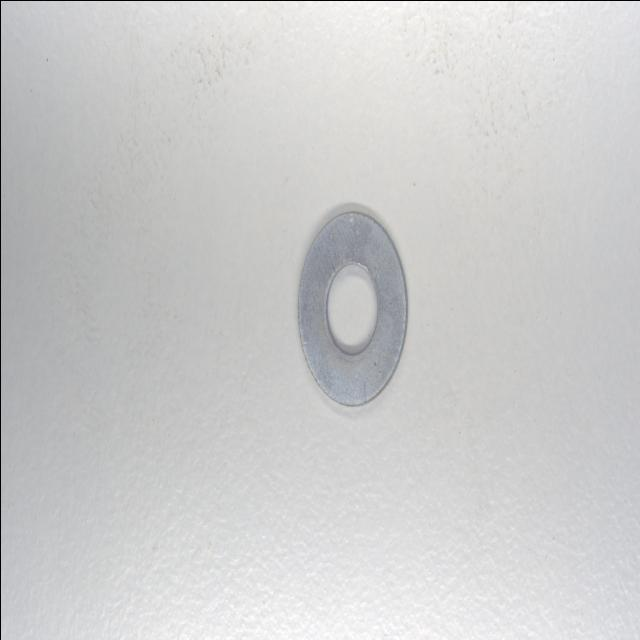washer: (295, 208, 408, 408)
